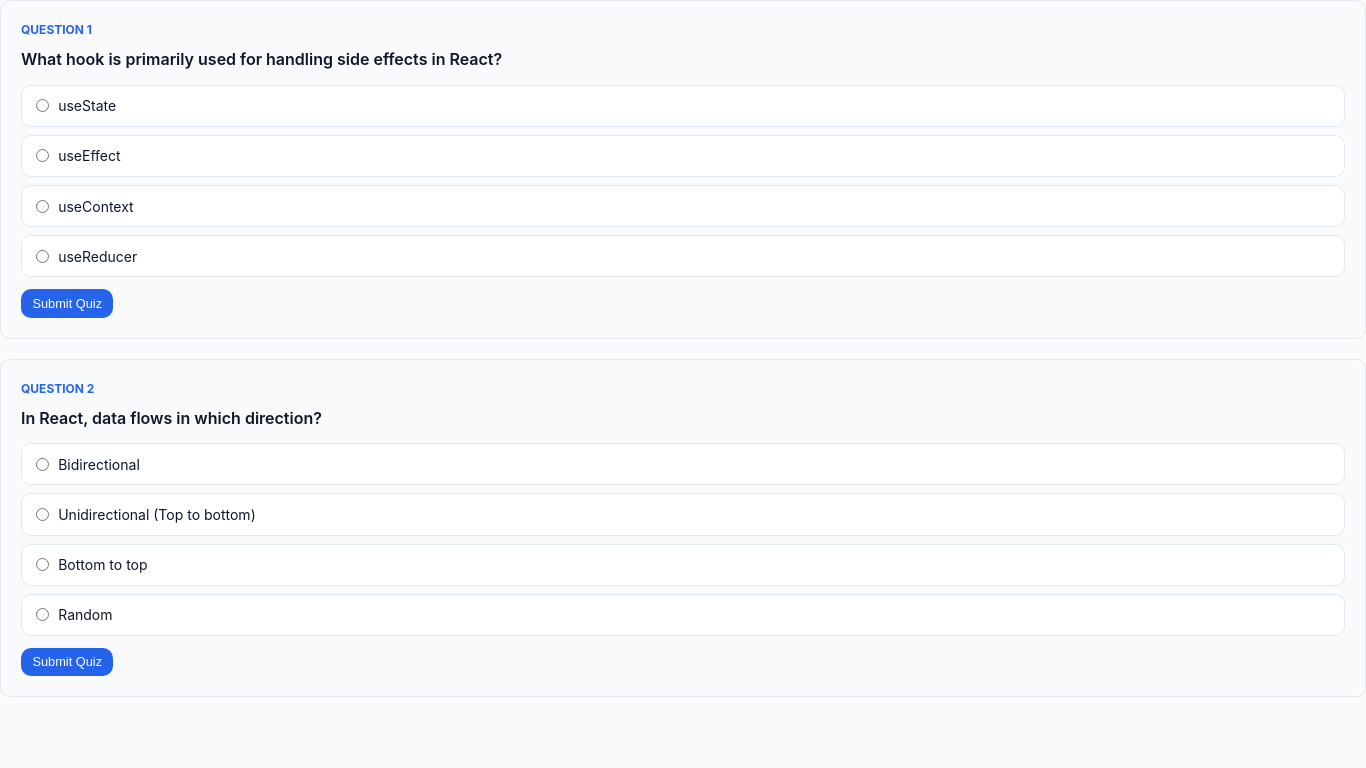
Test: Unit 5 Experiment 1: QuizComponent Tests › validates incomplete selection and alerts the user
The width and height of the screenshot is (1366, 768).
// Click Submit Quiz without selecting an option
Step 1. Click the button "Submit Quiz" below "useReducer" → (67,303), box [21,289,114,318]
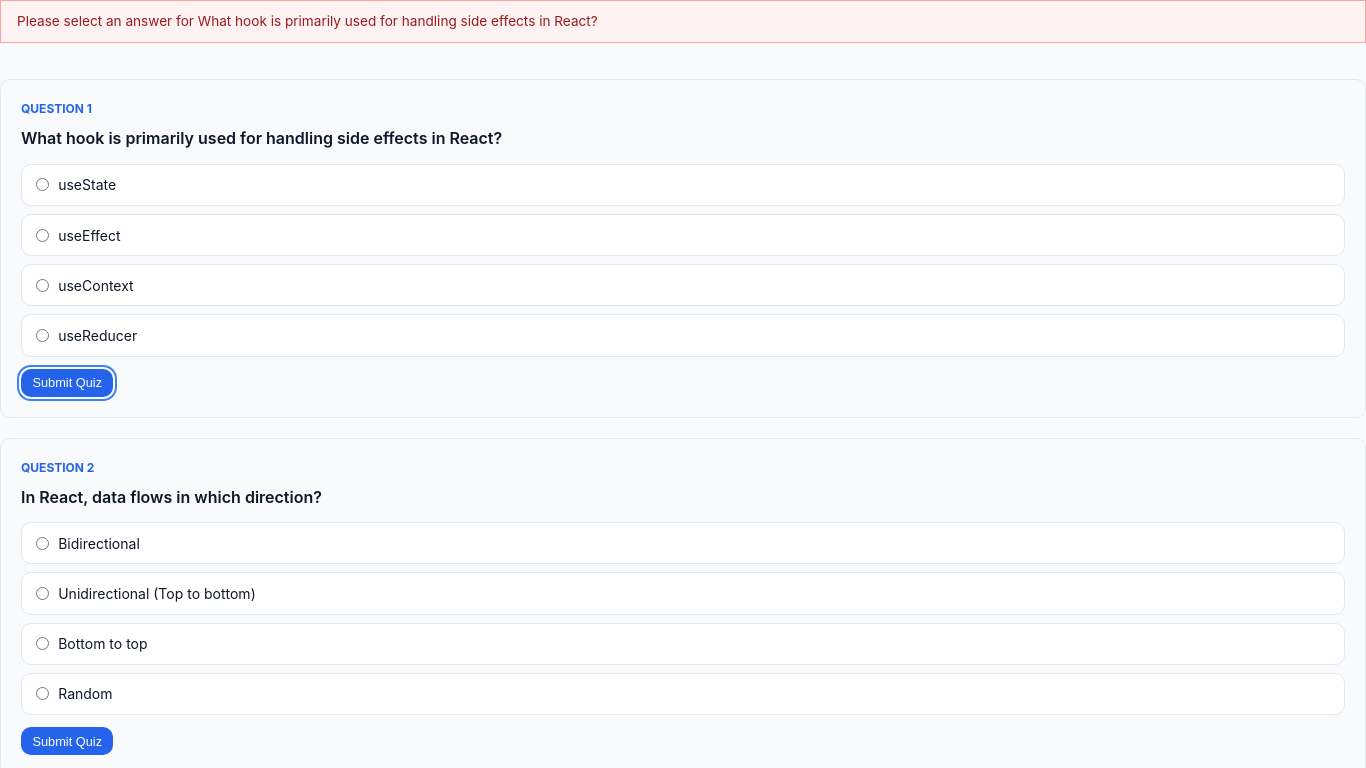
Check: the message is shown, box [0,0,1365,43]
Check: the text "Please select an answer" is shown, box [17,13,598,29]
